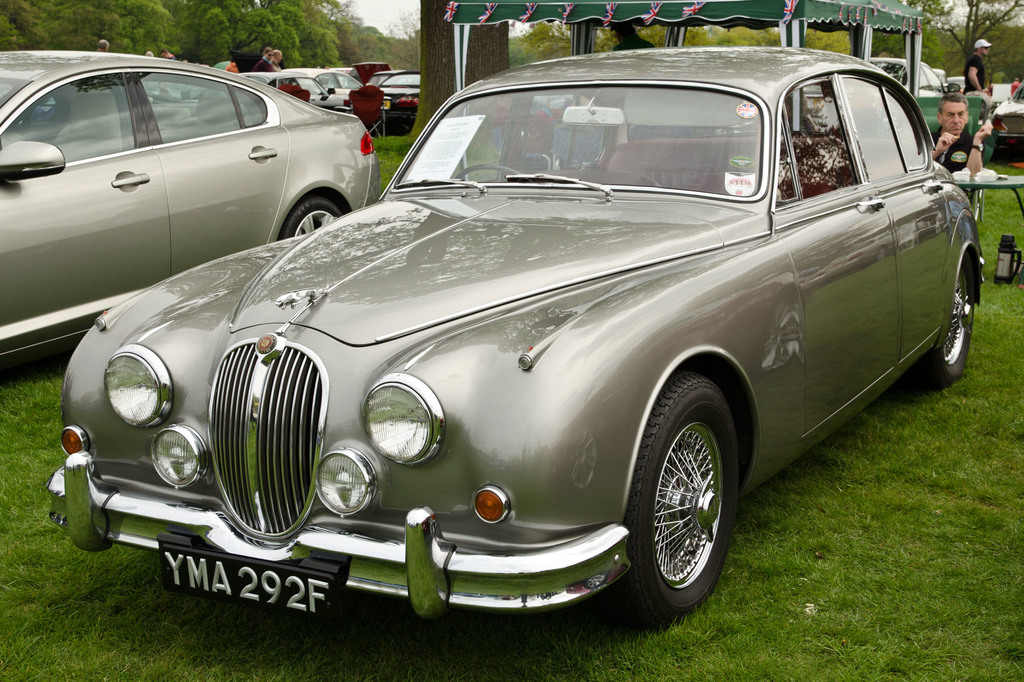Car: (40, 53, 981, 609), (0, 42, 371, 356), (256, 62, 430, 121), (1002, 83, 1023, 146)
